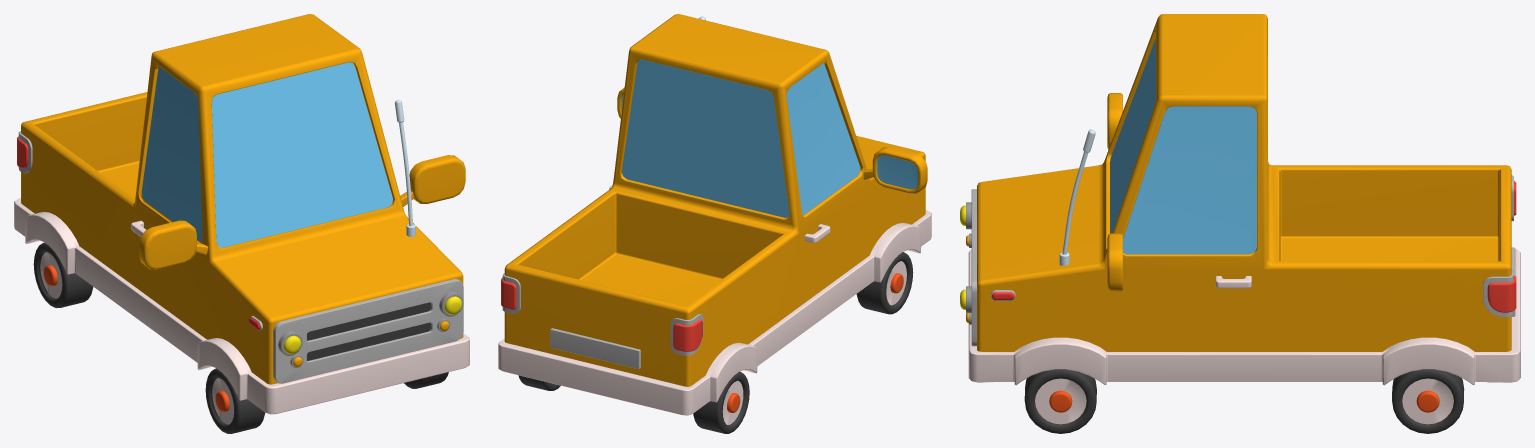
File: Public_5_Car_1.glb
The picture shows the model from 3 angles, left to right: view 1: azimuth 30°, elevation 25°; view 2: azimuth 150°, elevation 25°; view 3: azimuth 270°, elevation 25°; orthographic projection. The views are drawn at different scales.
Parts seen in each view (by area): view 1: Public_5_Car_1; view 2: Public_5_Car_1; view 3: Public_5_Car_1.
Boxes of the visible parts, x1=… form: Public_5_Car_1: x1=14, y1=14, x2=469, y2=433; Public_5_Car_1: x1=498, y1=14, x2=931, y2=433; Public_5_Car_1: x1=960, y1=14, x2=1520, y2=433.
Bounding box in the file's own units: 2.95 × 2.66 × 4.17.
Materials: 1 (1 with a texture image).
